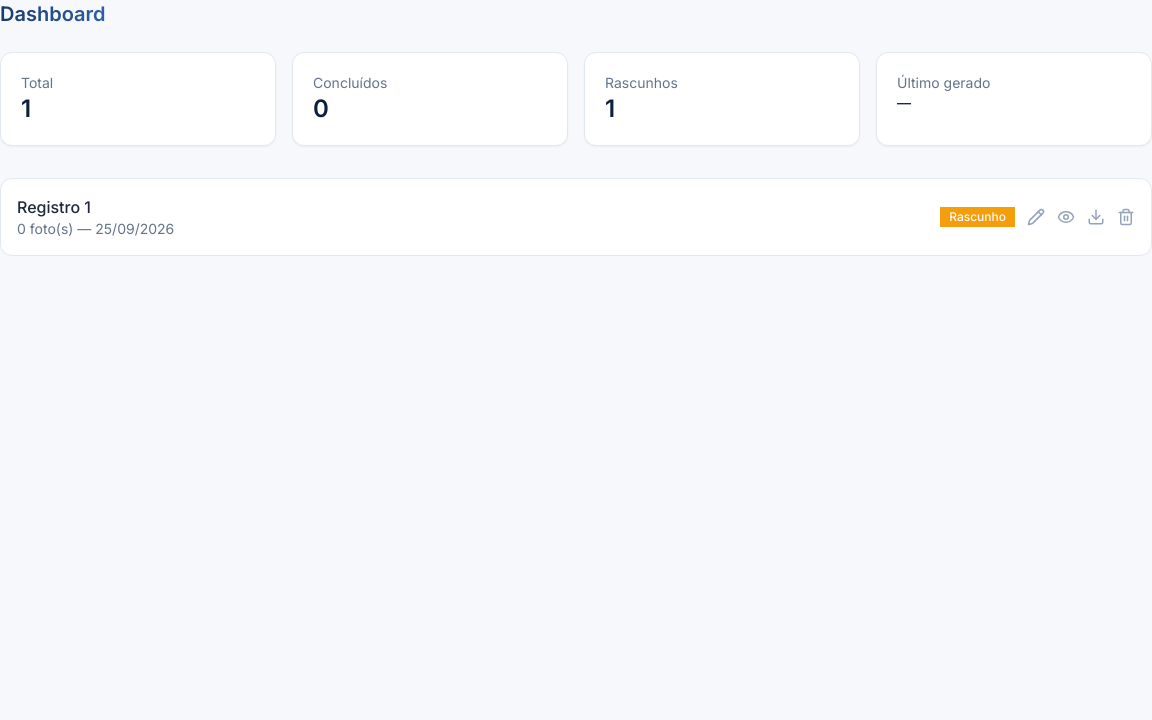
Scenario: Dashboard › deletes a laudo after confirming the dialog
What coordinates should you click on to do the following:
click the button named "excluir laudo"
I would click on:
 (1126, 217)
Its box is [1117,208,1135,226].
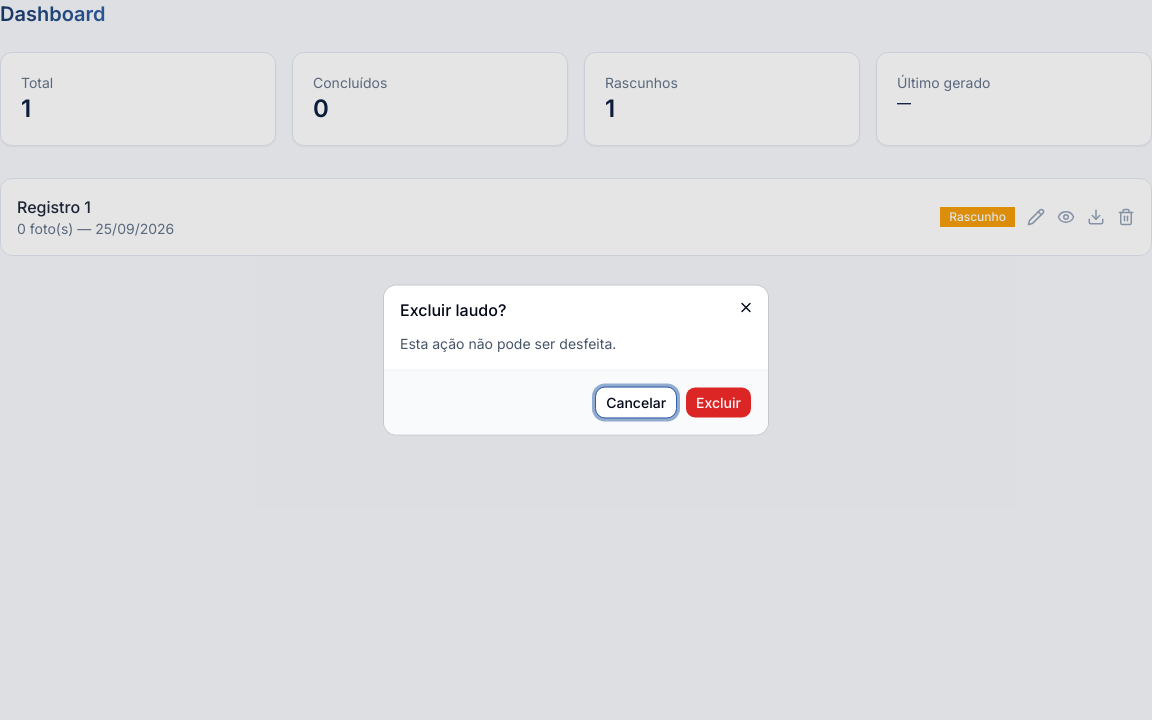
What coordinates should you click on to do the following:
click the button "Excluir"
I would click on:
 (719, 402)
Its box is [685,386,752,418].
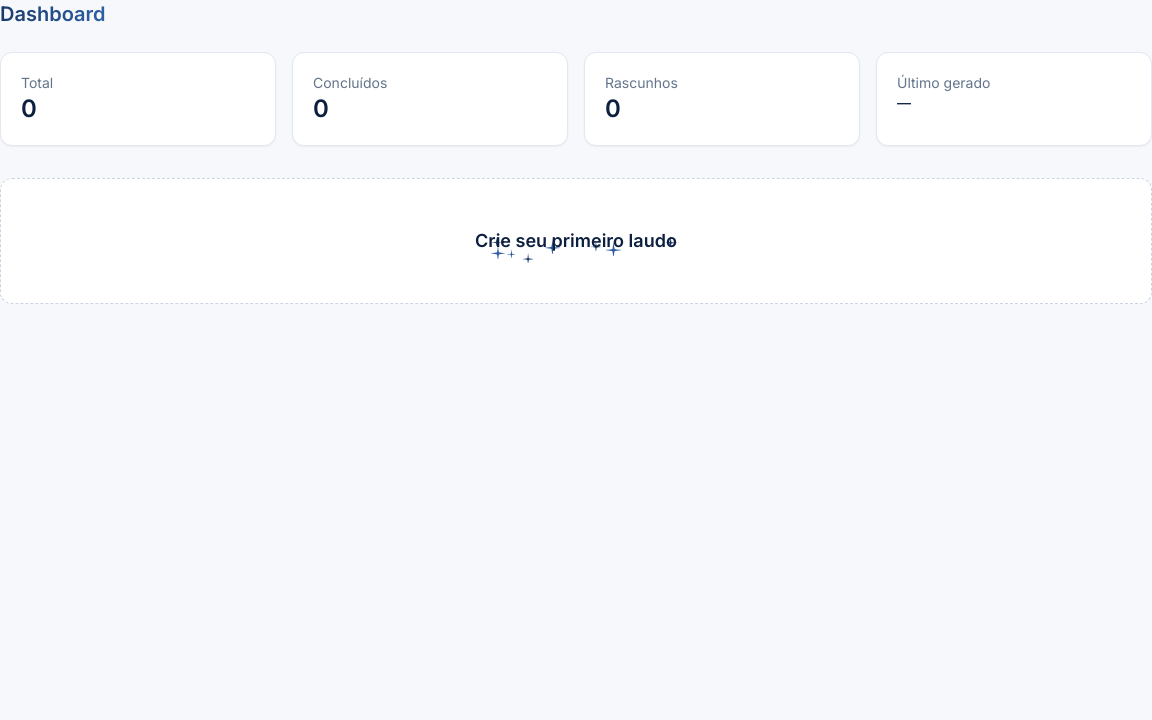
Check: the text "Crie seu primeiro laudo" is shown, box [475,230,677,251]
